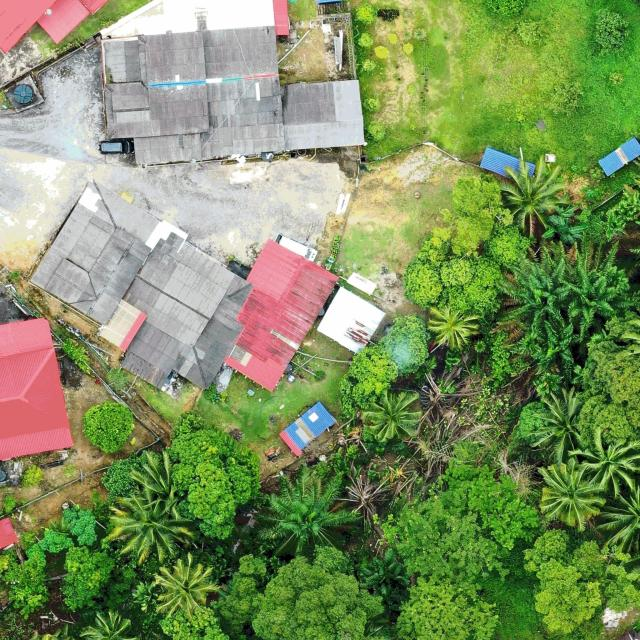Tree: (380, 458, 540, 588), (249, 543, 384, 640), (521, 526, 640, 636), (250, 457, 365, 567), (168, 409, 262, 542), (402, 235, 502, 322), (489, 243, 576, 334), (395, 571, 500, 640), (106, 490, 196, 567), (429, 174, 513, 256), (574, 348, 640, 446), (554, 250, 624, 332), (517, 386, 590, 461), (499, 154, 569, 231), (569, 425, 640, 496), (536, 461, 606, 529), (151, 554, 221, 618), (340, 346, 400, 420), (129, 450, 191, 520), (0, 543, 52, 619), (378, 312, 438, 376), (61, 544, 116, 613), (595, 479, 640, 554), (356, 548, 413, 606), (364, 388, 424, 442), (81, 399, 135, 454), (428, 302, 480, 352), (542, 203, 588, 244), (78, 606, 133, 640), (61, 502, 97, 546), (595, 8, 627, 51), (38, 527, 73, 554), (20, 463, 44, 488), (353, 2, 378, 26)
